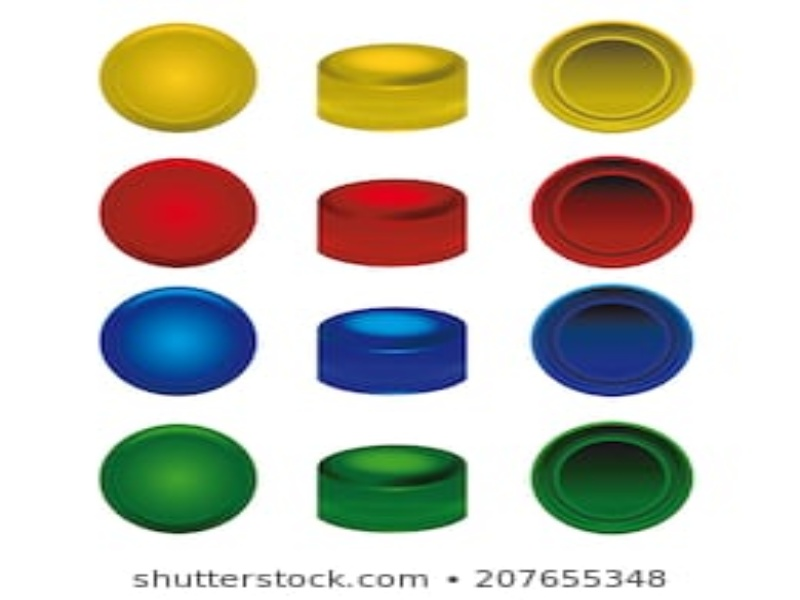bottle-cap: (525, 20, 698, 134), (529, 421, 702, 535), (521, 282, 694, 396), (523, 154, 696, 268), (96, 422, 259, 535), (97, 22, 259, 131), (97, 286, 259, 395), (96, 157, 258, 266), (312, 42, 471, 133), (313, 443, 472, 534), (311, 306, 470, 397), (312, 178, 471, 269)
